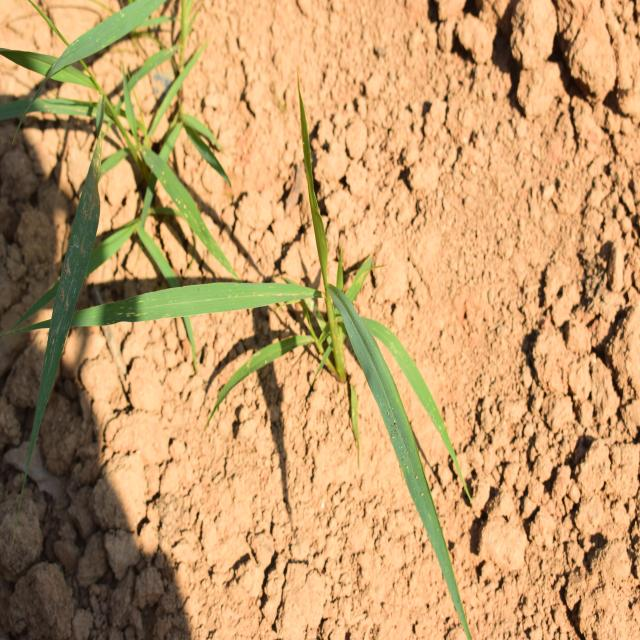green_foxtail: (84, 188, 480, 530), (19, 18, 220, 248)
